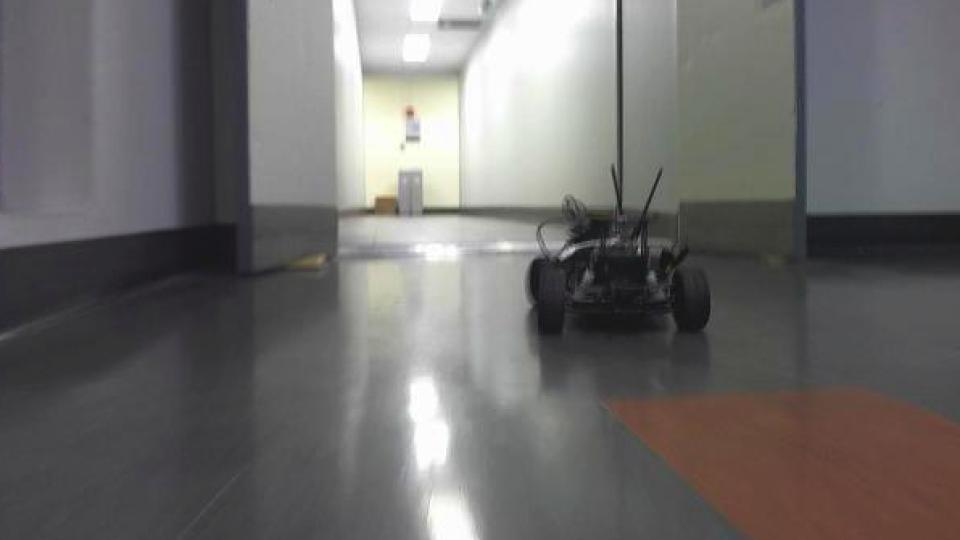car: (522, 162, 713, 338)
